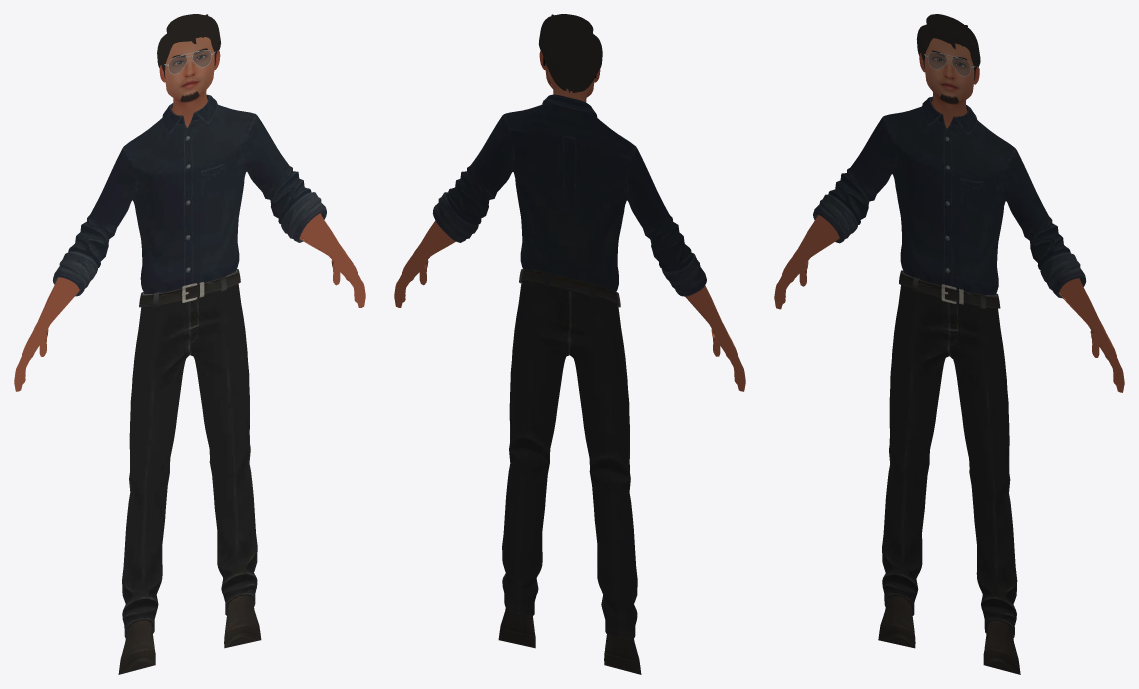
File: luisplana1d.glb
3 views of the same model, side by side, from view 1: azimuth 30°, elevation 25°; view 2: azimuth 150°, elevation 25°; view 3: azimuth 330°, elevation 25° (orthographic).
Visible parts, largest first — view 1: Wolf3D_Head; view 2: Wolf3D_Head; view 3: Wolf3D_Head.
Boxes of the visible parts, bbox=[...] form: Wolf3D_Head: bbox=[14, 14, 365, 674]; Wolf3D_Head: bbox=[394, 14, 745, 674]; Wolf3D_Head: bbox=[774, 14, 1124, 674].
Bounding box in the file's own units: 1.06 × 1.86 × 0.00119.
Materials: 9 (9 with a texture image).
